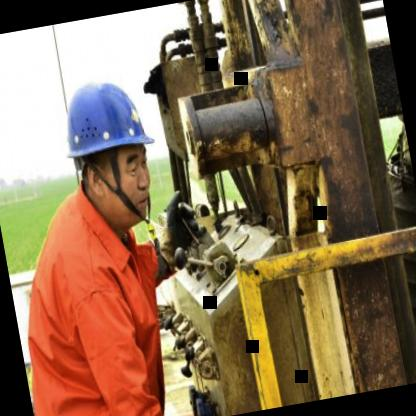helmet: (43, 52, 176, 244)
